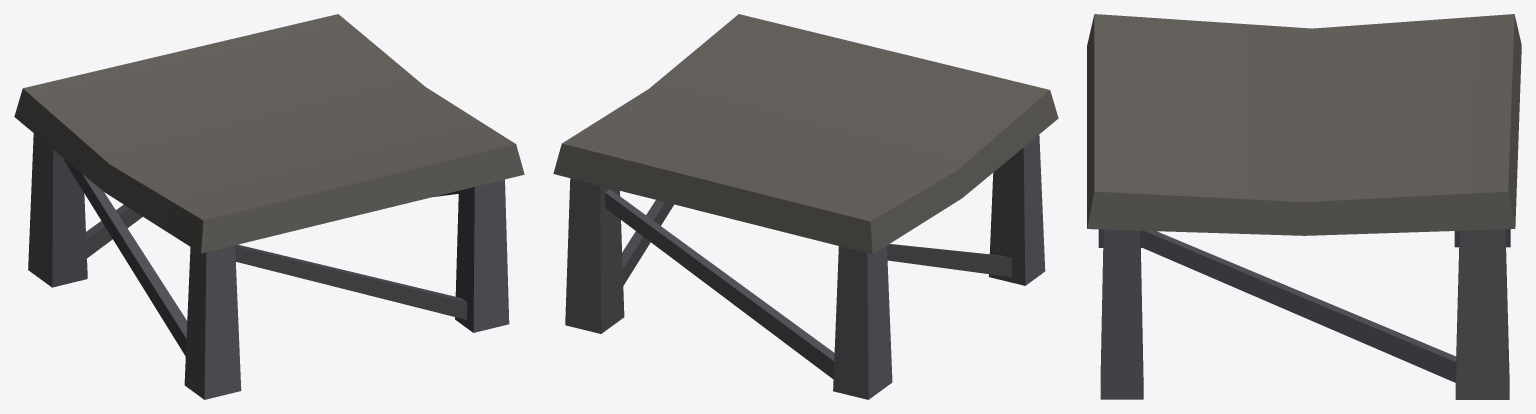
File: WaterTankBase.fbx
3 renders of one model, left to right at view 1: azimuth 30°, elevation 25°; view 2: azimuth 150°, elevation 25°; view 3: azimuth 270°, elevation 25°, orthographic. The views are drawn at different scales.
Visible parts, largest first — view 1: WaterTankBase; view 2: WaterTankBase; view 3: WaterTankBase.
Part boxes in pixels (box(x1,y1,x2,y2)): WaterTankBase: box(14, 14, 524, 399); WaterTankBase: box(553, 14, 1058, 399); WaterTankBase: box(1087, 14, 1521, 399).
Bounding box in the file's own units: 103 × 55.06 × 103.
Materials: 1 (1 with a texture image).
